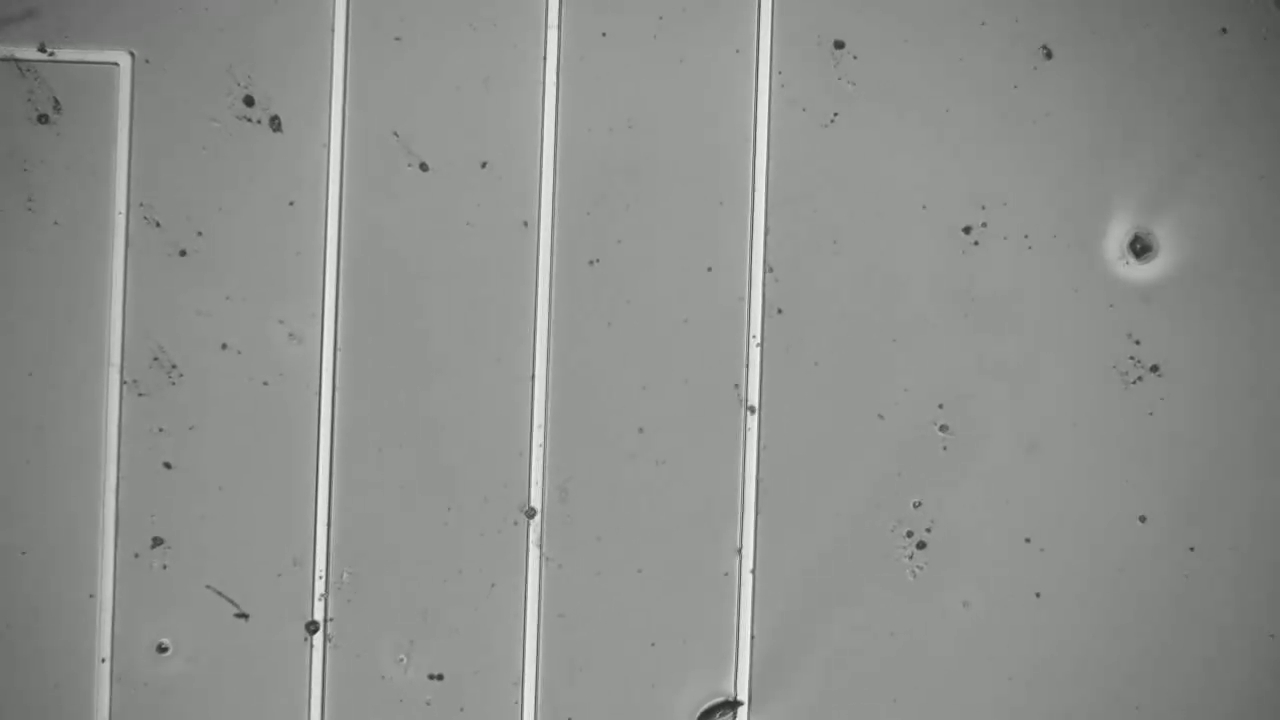stains_enbedded: (301, 614, 340, 645), (518, 493, 549, 530), (33, 35, 56, 64)
